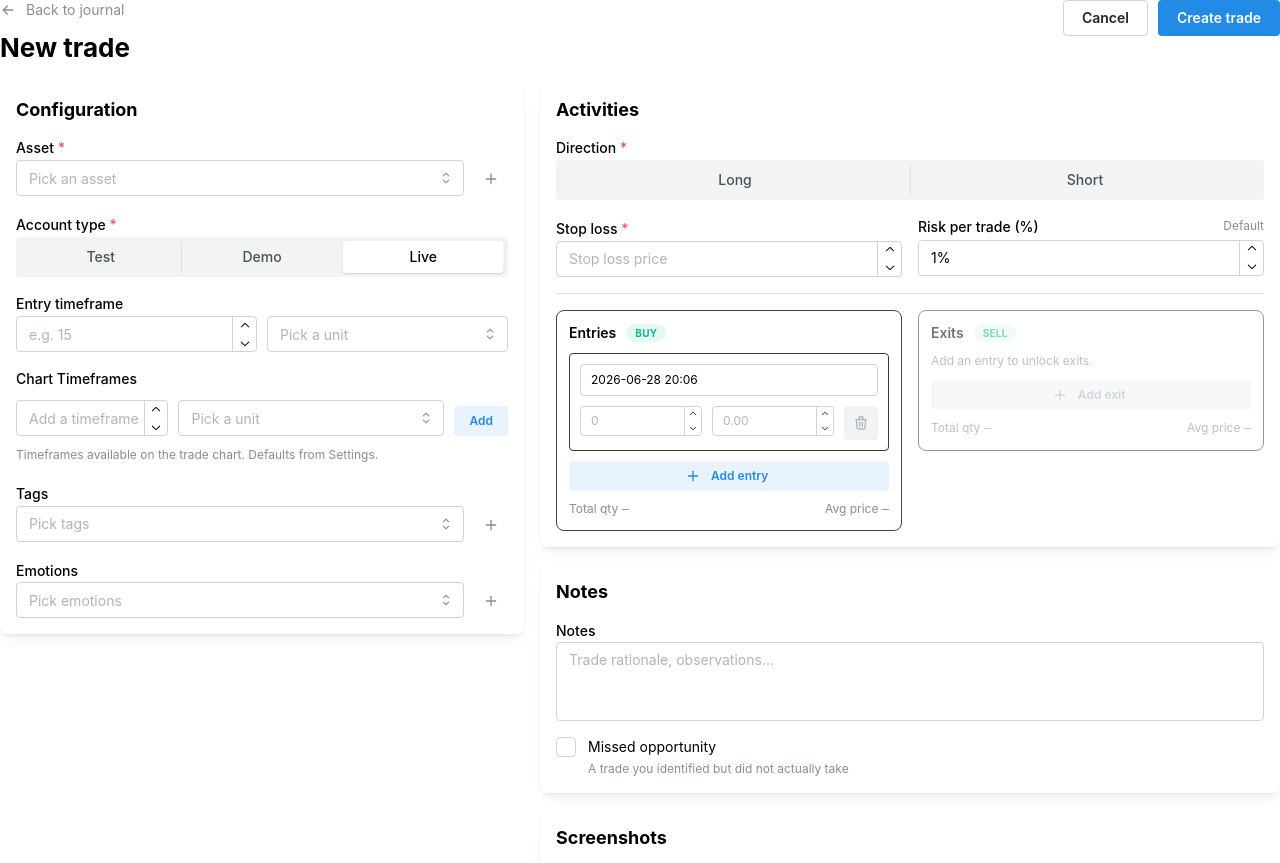
Test: TradeFormPage — inline reference-data creation › creates a tag inline and adds it to the selection
The image size is (1280, 863).
Check: the heading "New trade" is shown, box [0, 30, 130, 65]
Click the button named "Add tag" at (491, 524), box [474, 508, 508, 542]
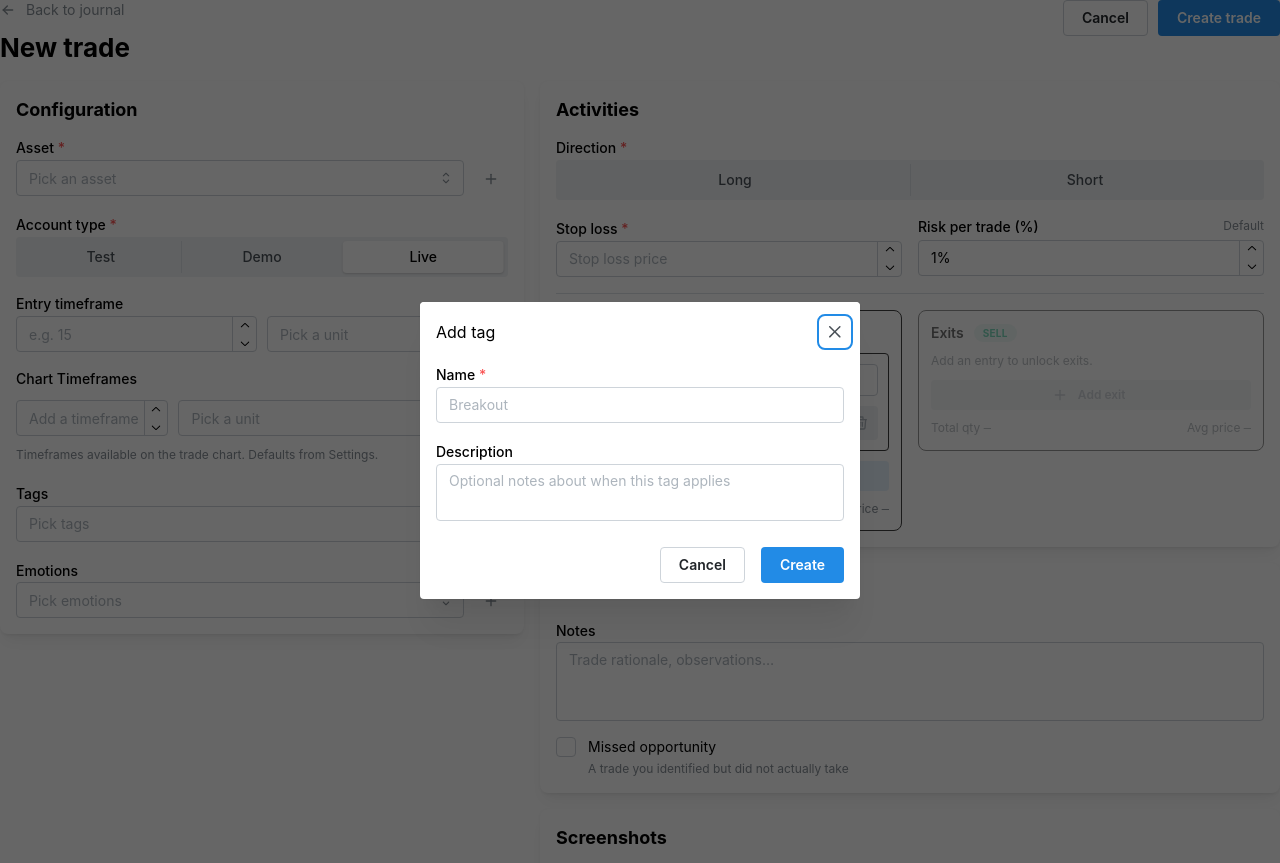
Type "Pullback" into the field labelled "Name" at (640, 404), box [436, 386, 844, 422]
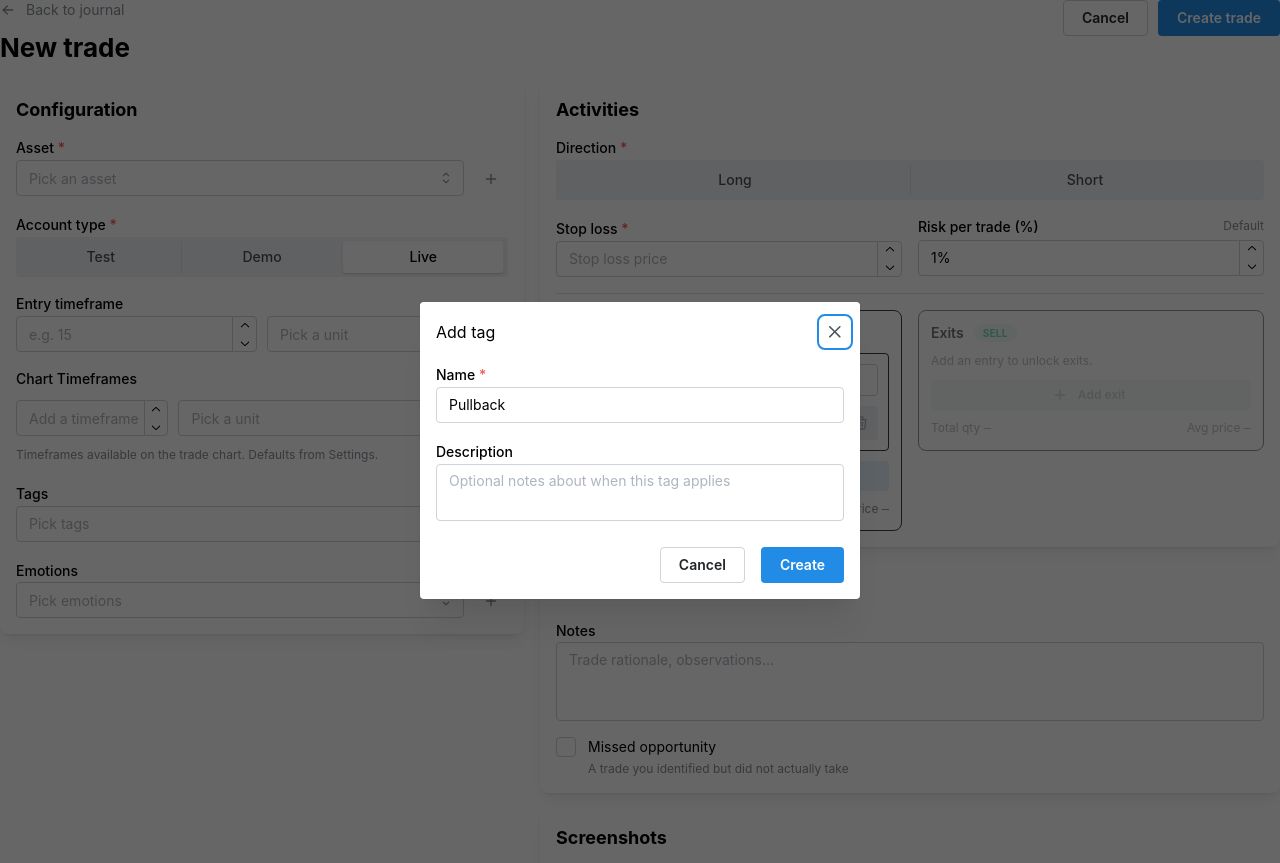
Click the button "Create" at (802, 564), box [761, 546, 844, 582]
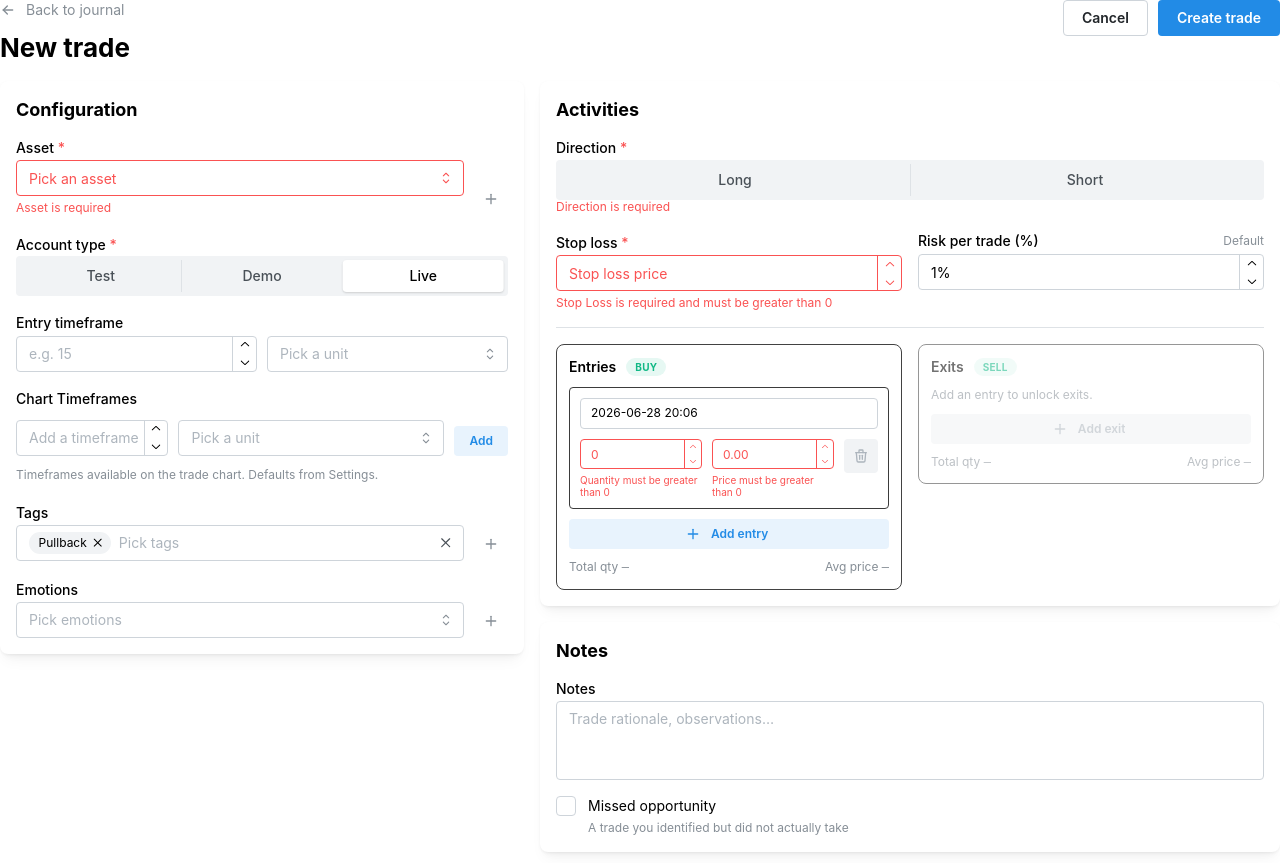
Check: the dialog is gone
Check: the text "Pullback" is shown, box [39, 532, 87, 554]
